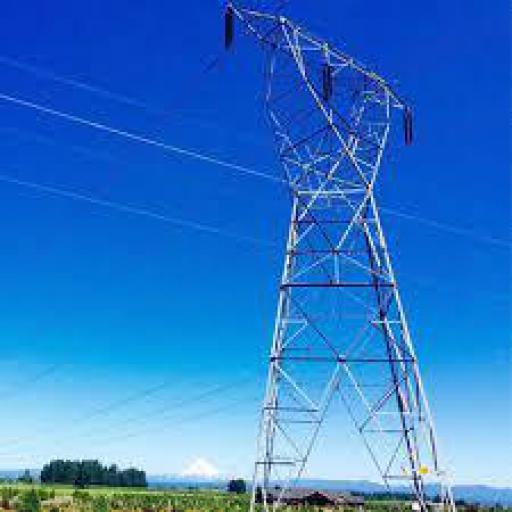wt_5: (223, 4, 462, 510)
